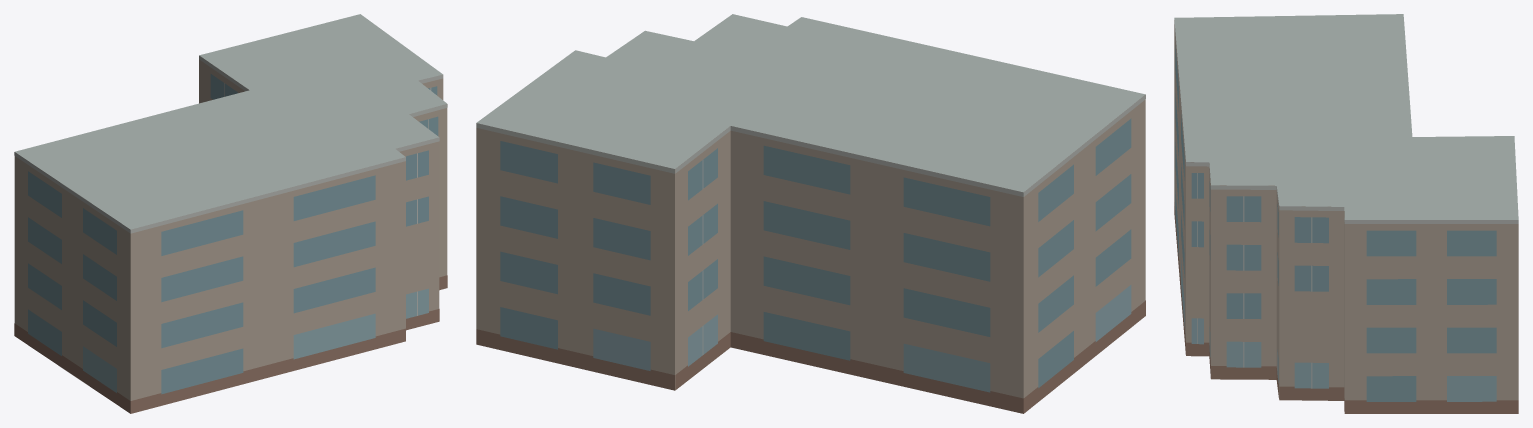
Rendered from survey-upis-32762327.glb.
The picture shows the model from 3 angles, left to right: view 1: azimuth 30°, elevation 25°; view 2: azimuth 150°, elevation 25°; view 3: azimuth 270°, elevation 25°; orthographic projection. The views are drawn at different scales.
Parts seen in each view (by area): view 1: survey-upis-32762327.tmp; view 2: survey-upis-32762327.tmp; view 3: survey-upis-32762327.tmp.
Boxes of the visible parts, bbox=[...] form: survey-upis-32762327.tmp: bbox=[14, 14, 447, 413]; survey-upis-32762327.tmp: bbox=[476, 14, 1145, 413]; survey-upis-32762327.tmp: bbox=[1174, 14, 1518, 413].
Bounding box in the file's own units: 25.73 × 11.3 × 18.19.
